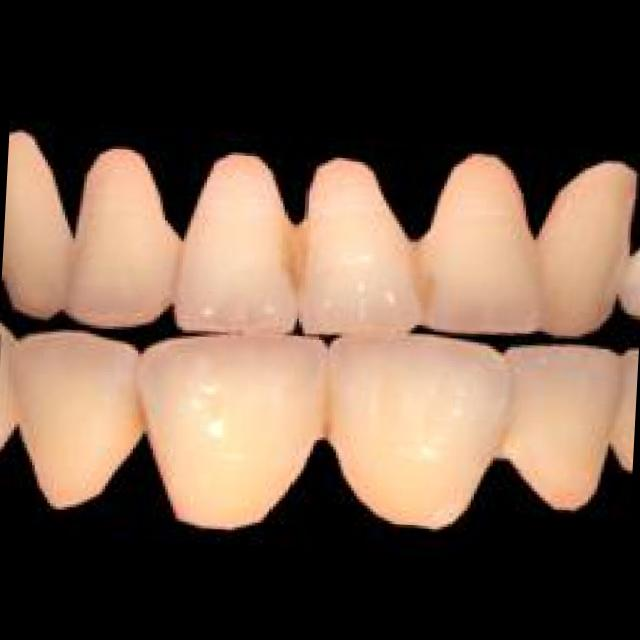1: (138, 331, 328, 540), (326, 335, 499, 535), (9, 332, 150, 516), (165, 155, 308, 336), (288, 156, 423, 339), (411, 153, 540, 340), (494, 346, 622, 518), (70, 144, 184, 336), (528, 160, 640, 338), (2, 129, 76, 332)
karies: (402, 239, 442, 326), (311, 379, 346, 442), (282, 220, 311, 294), (131, 408, 152, 438)
